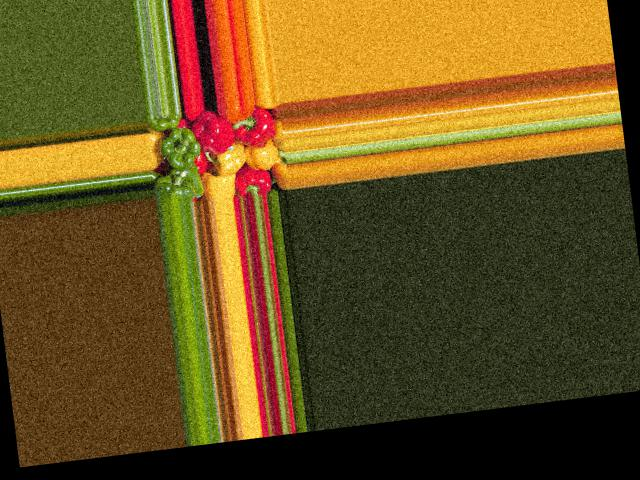bell_pepper: (144, 112, 184, 138)
